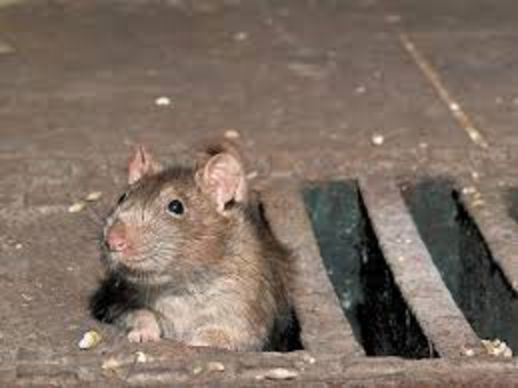rat: (82, 138, 303, 361)
